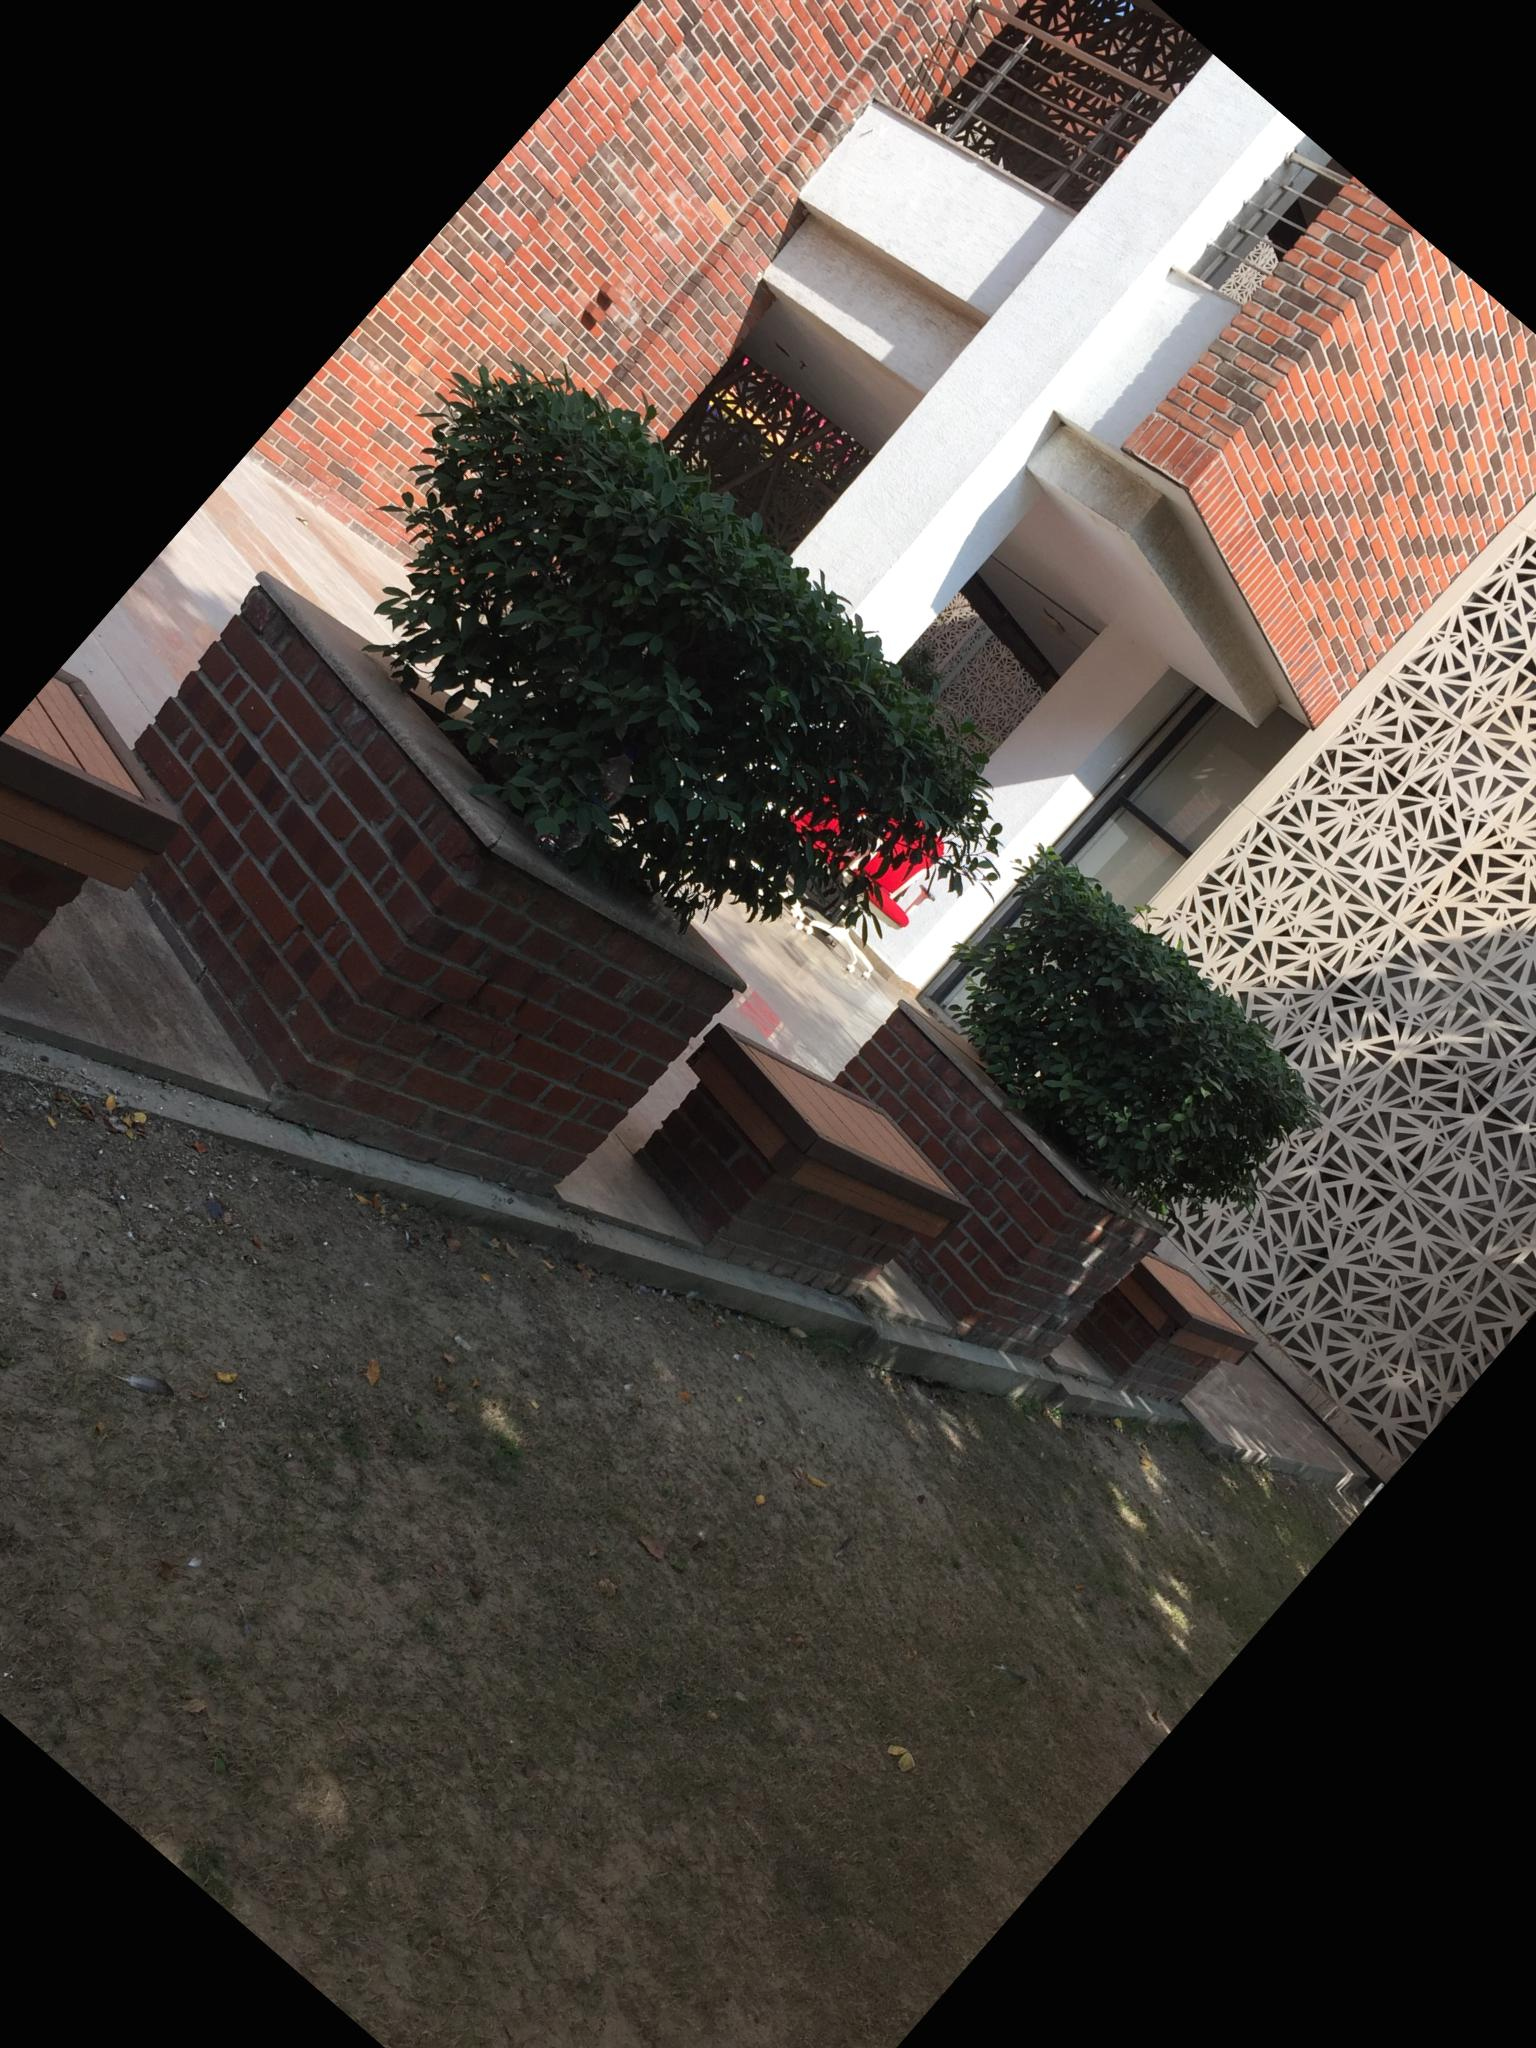chair: (786, 798, 979, 997), (716, 743, 900, 937)
